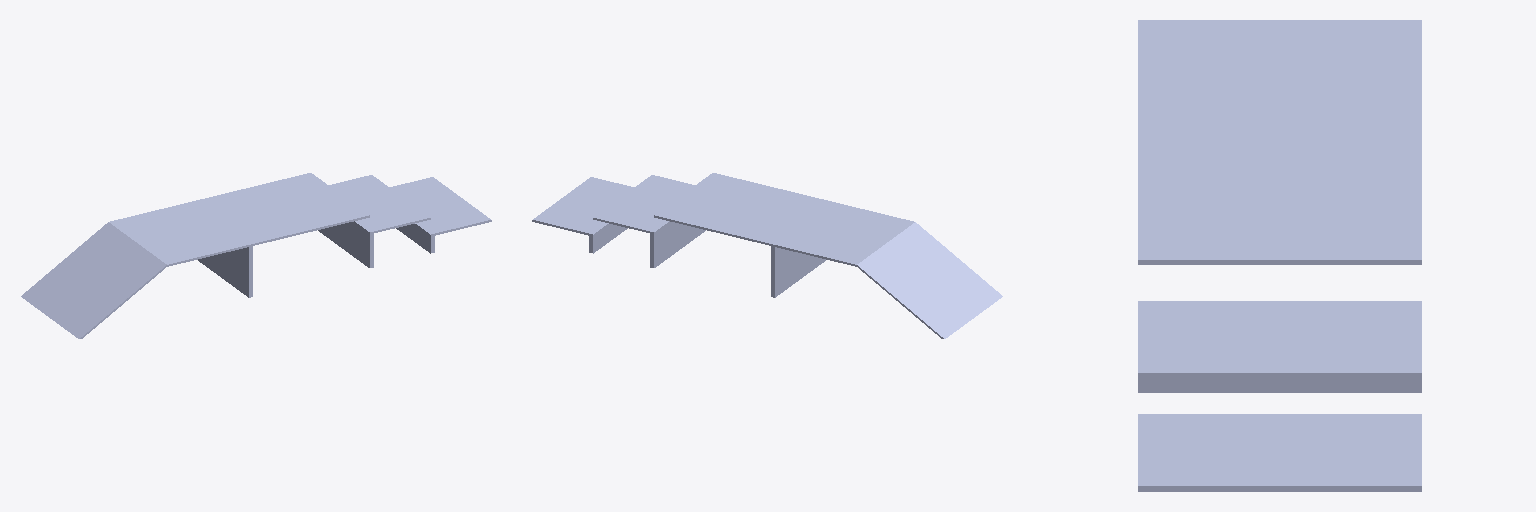
URDF robot description (map30):
<?xml version="1.0" encoding="utf-8"?>
<!-- This URDF was automatically created by SolidWorks to URDF Exporter! Originally created by [author] ([email redacted]) 
     Commit Version: 1.6.0-1-g15f4949  Build Version: 1.6.7594.29634
     For more information, please see http://wiki.ros.org/sw_urdf_exporter -->
<robot
  name="map30">
  <link
    name="map30">
    <inertial>
      <origin
        xyz="0.143810334264144 0 -0.0954115964883127"
        rpy="0 0 0" />
      <mass
        value="14.9082622392718" />
      <inertia
        ixx="0.379650663684847"
        ixy="3.92769412547818E-17"
        ixz="-0.140327085456813"
        iyy="1.34334930705162"
        iyz="-6.8295575424005E-17"
        izz="1.58487623666976" />
    </inertial>
    <visual>
      <origin
        xyz="0 0 0"
        rpy="0 0 0" />
      <geometry>
        <mesh
          filename="package://map30/meshes/map30.STL" />
      </geometry>
      <material
        name="">
        <color
          rgba="0.792156862745098 0.819607843137255 0.933333333333333 1" />
      </material>
    </visual>
    <collision>
      <origin
        xyz="0 0 0"
        rpy="0 0 0" />
      <geometry>
        <mesh
          filename="package://map30/meshes/map30.STL" />
      </geometry>
    </collision>
  </link>
</robot>

--- What the picture shows (computed from the rendered views, not written in the file) ---
Views: 3 orthographic renders of the robot side by side, from view 1: azimuth 30°, elevation 25°; view 2: azimuth 150°, elevation 25°; view 3: azimuth 270°, elevation 25°.
Model map30 with 1 links and 0 joints (none), rooted at map30, posed all joints at 0.
Links seen in each view (by area): view 1: map30; view 2: map30; view 3: map30.
Boxes of the visible links, x1=… form: map30: x1=21, y1=173, x2=491, y2=338; map30: x1=532, y1=173, x2=1002, y2=338; map30: x1=1138, y1=20, x2=1421, y2=491.
Size in the robot's own frame: 2.03 by 0.5 by 0.25 metres.
Meshes: 1 distinct files referenced, 1 mesh visuals loaded (1 binary STL).